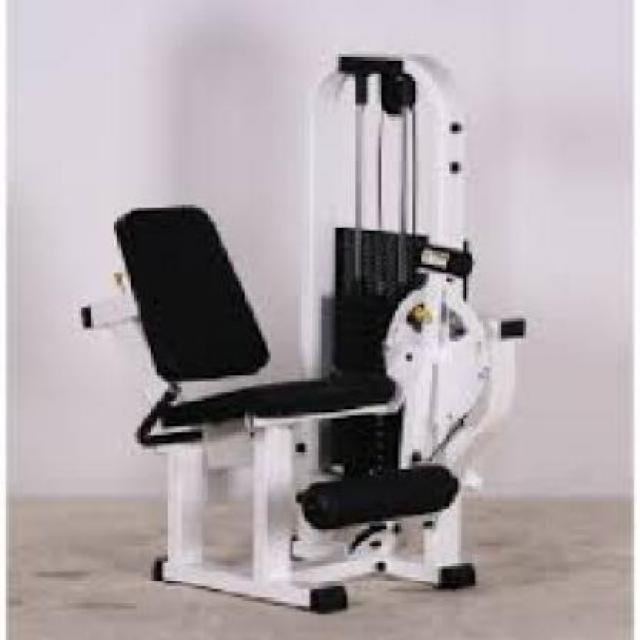leg extension: (60, 39, 540, 622)
